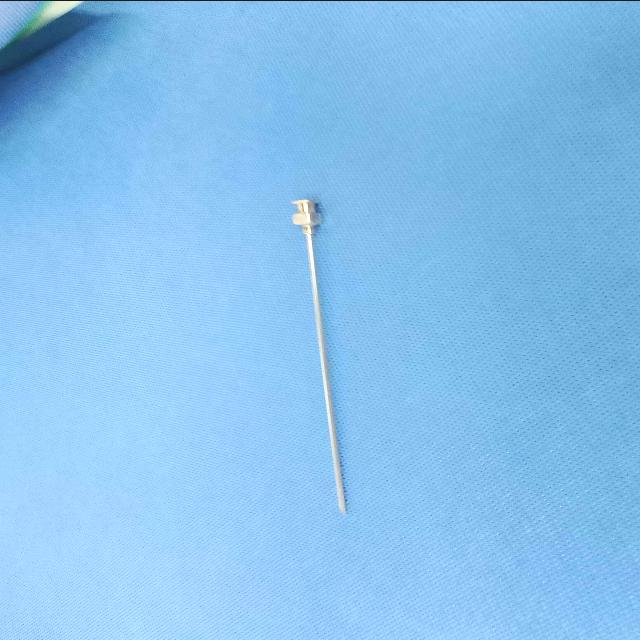Pathological: (2, 3, 636, 638)
Sharps: (290, 197, 348, 514)
